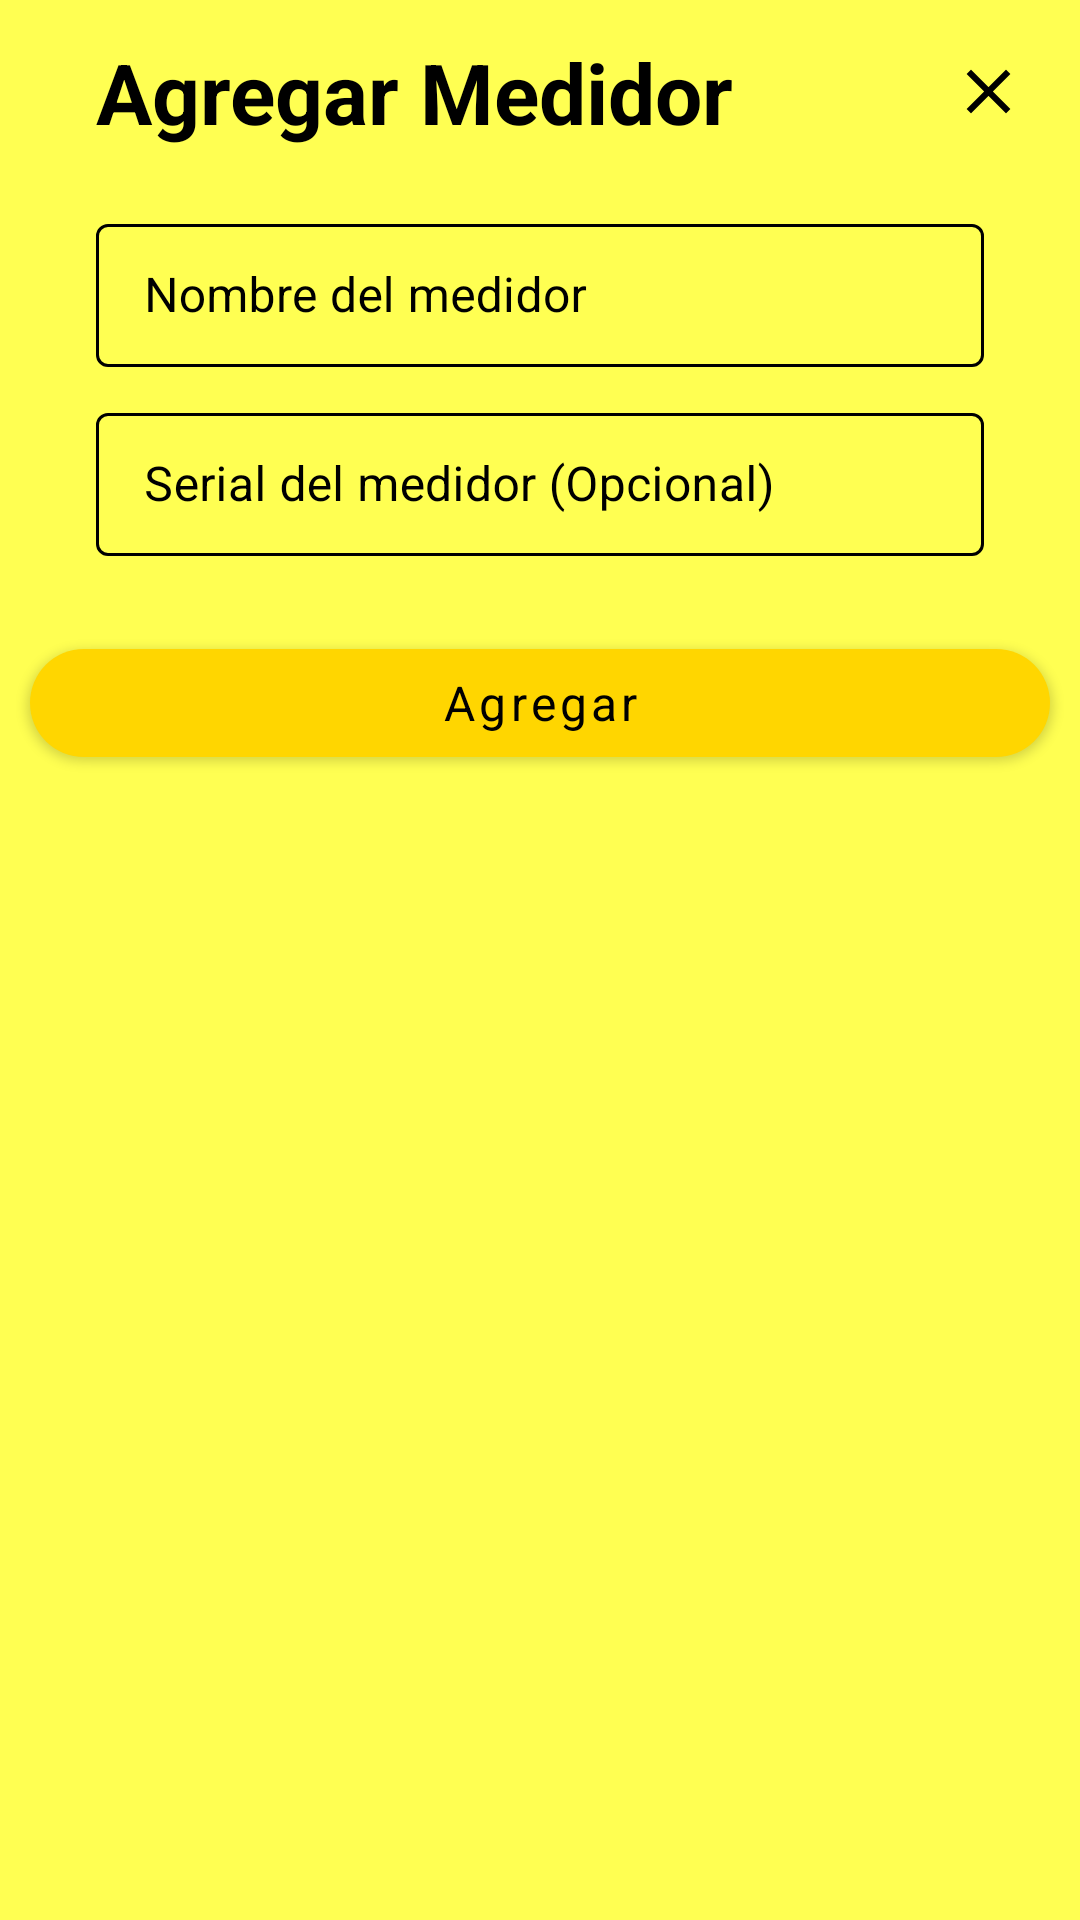

Point at icon controls on the screen. Image size 1080px x 1920px, points as (x,y).
close: (988,91)
